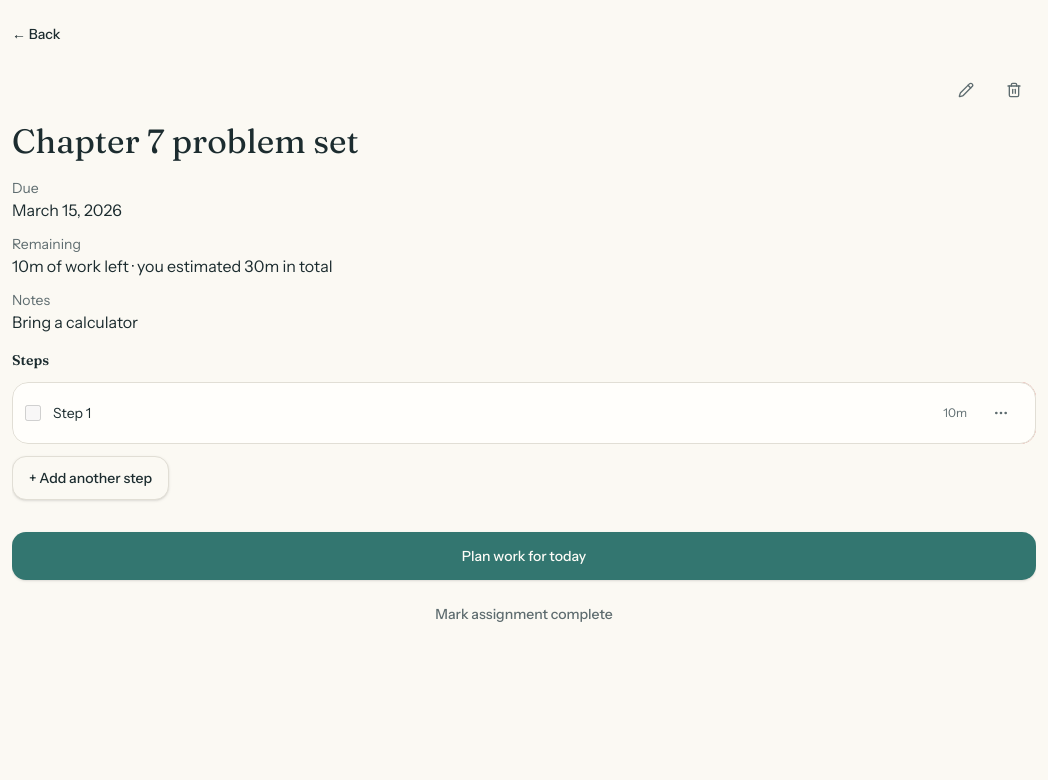
Test: AssignmentDetailPage › marks the assignment and all open steps complete, and prompts for reflection when a breakdown existed
The image size is (1048, 780).
Expected: the heading "Chapter 7 problem set" is shown, [12,120,359,162]
Click the button "Mark assignment complete": (524, 614) [12,592,1036,636]
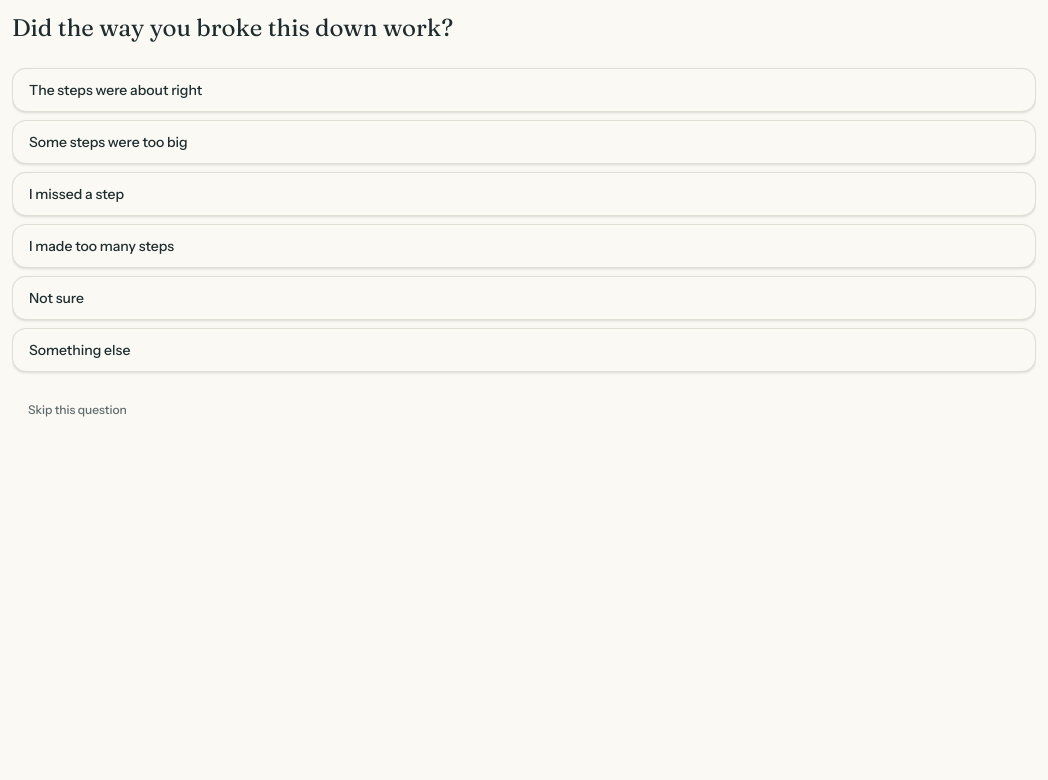
Expected: the heading "Did the way you broke this down work?" is shown, [12,13,453,42]
